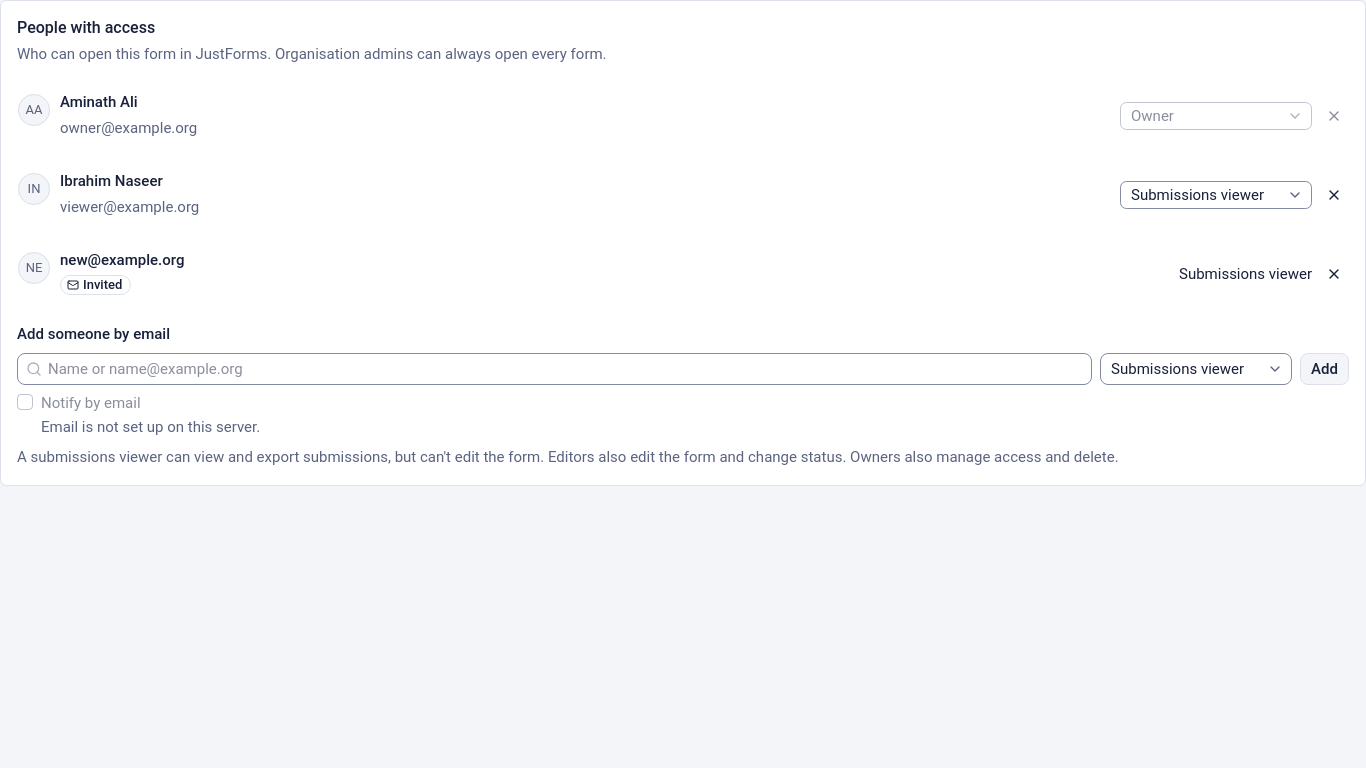
removing access › asks before removing someone, and Cancel keeps them
The image size is (1366, 768).
Click the button named "Remove Ibrahim Naseer": click(1334, 195) [1320,181,1348,209]
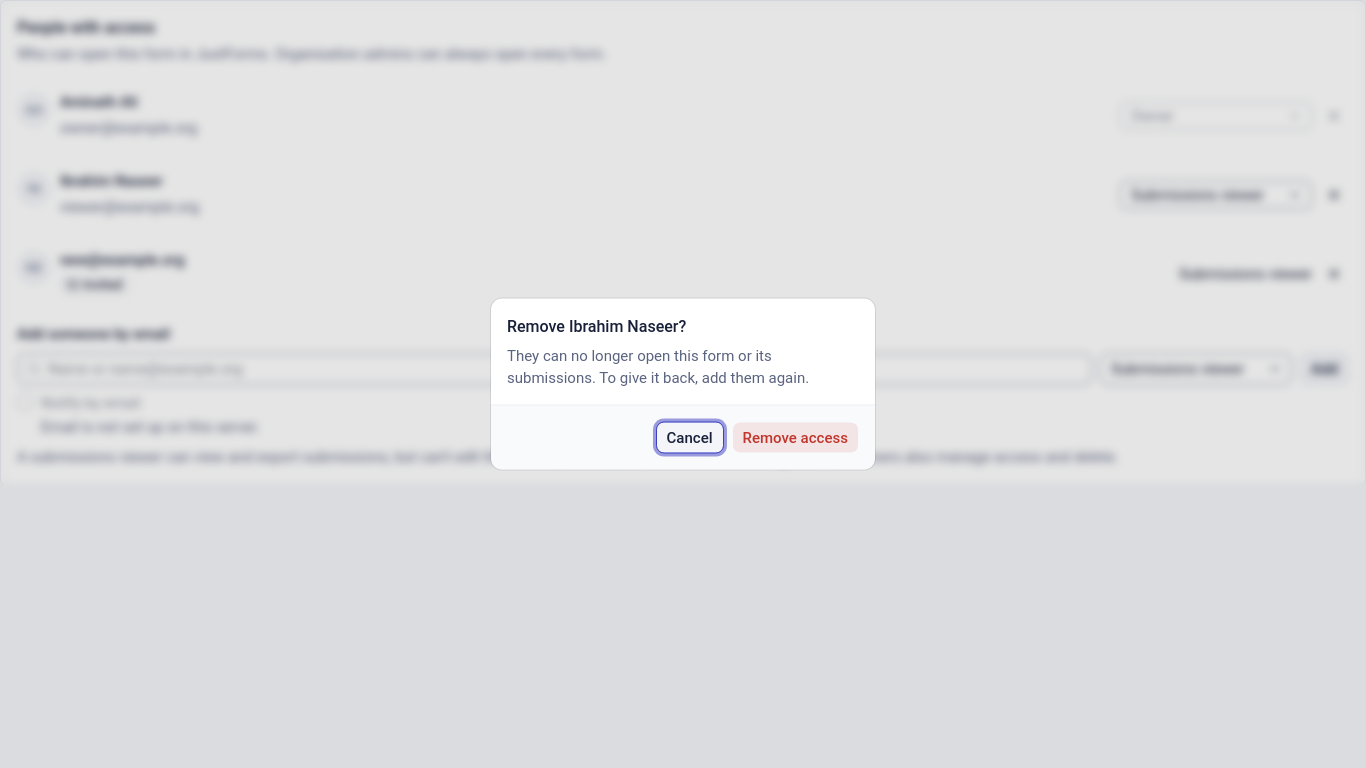
Expected: the dialog shows "Remove Ibrahim Naseer?", [491,298,875,470]
Expected: the button "Cancel" is shown
Click the button "Cancel": click(690, 438) [656,422,724,454]
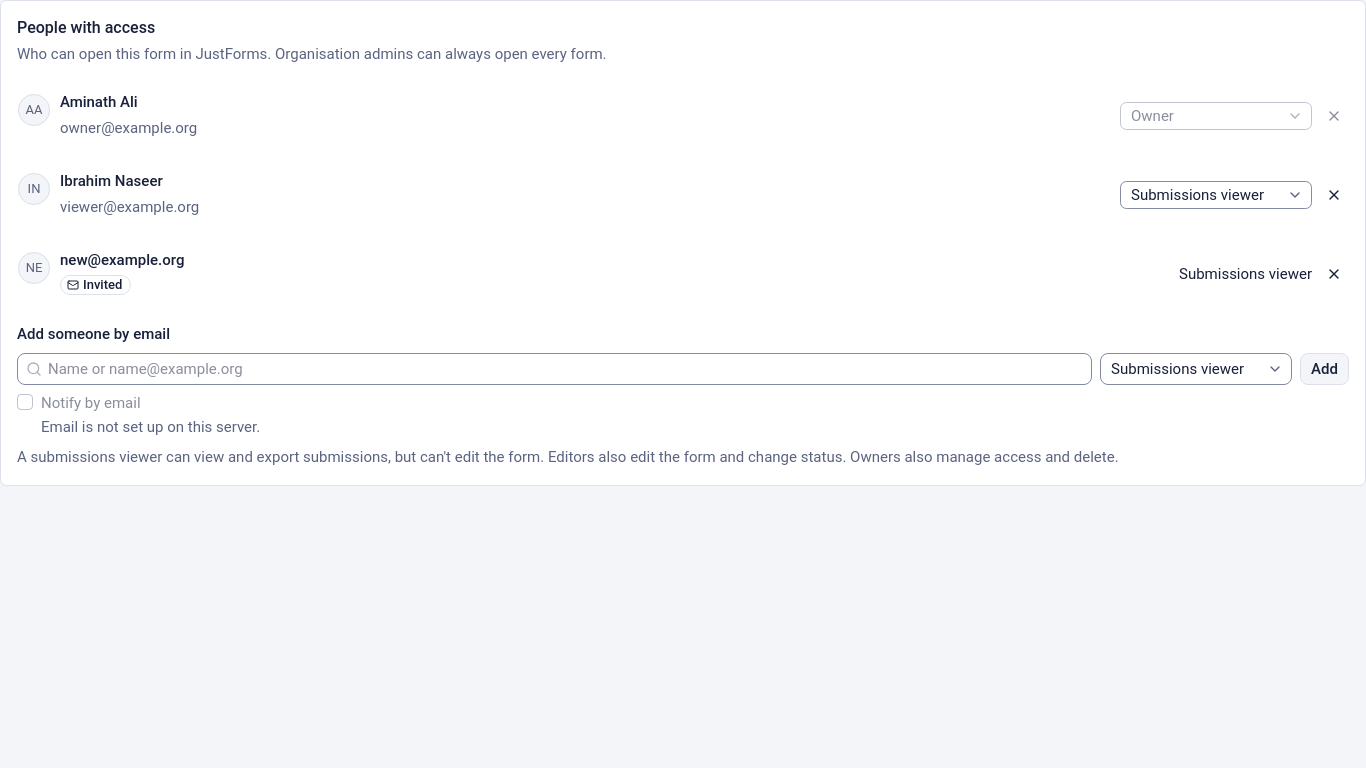
Expected: the dialog is gone
